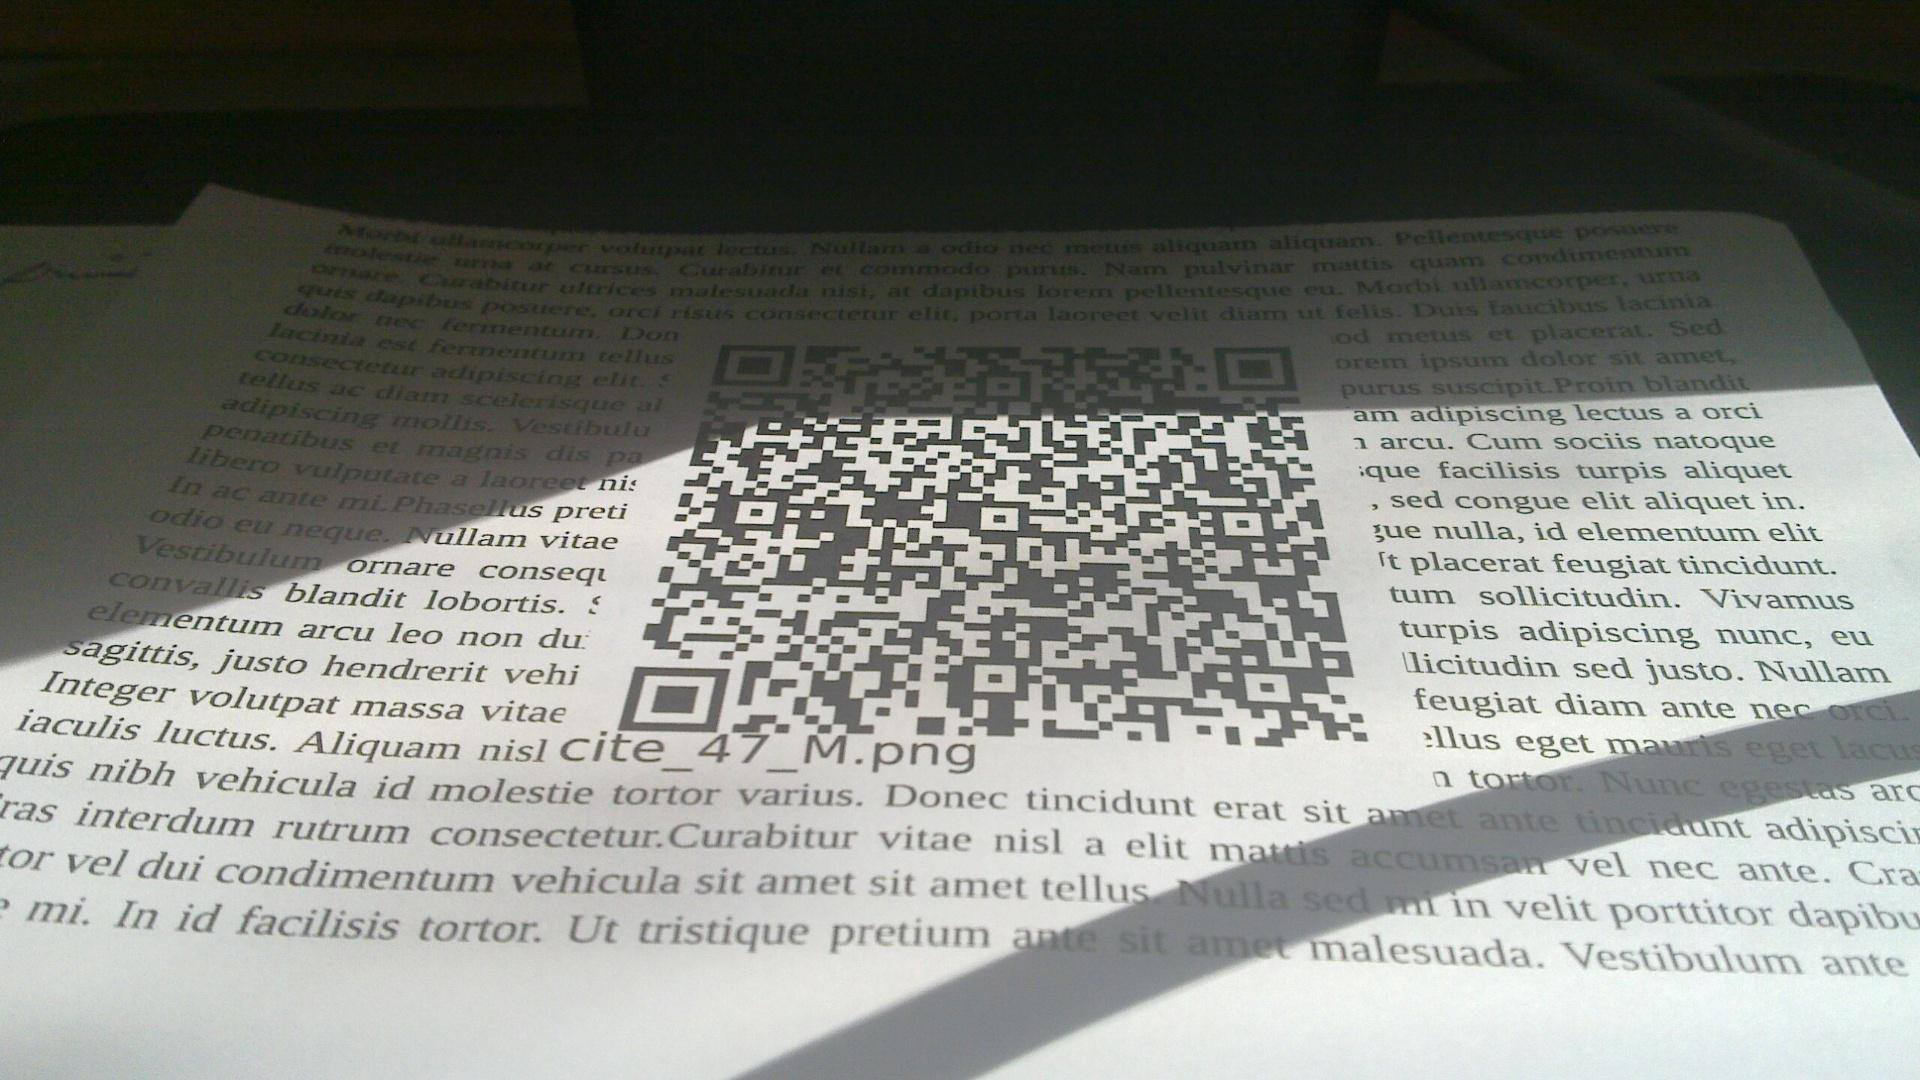Finder pattern: (620, 661, 735, 737), (1209, 342, 1305, 398), (707, 336, 800, 393)
